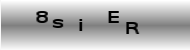8: (35, 10, 48, 24)
E: (107, 10, 120, 24)
R: (124, 21, 140, 35)
i: (77, 18, 84, 32)
s: (51, 17, 64, 28)
